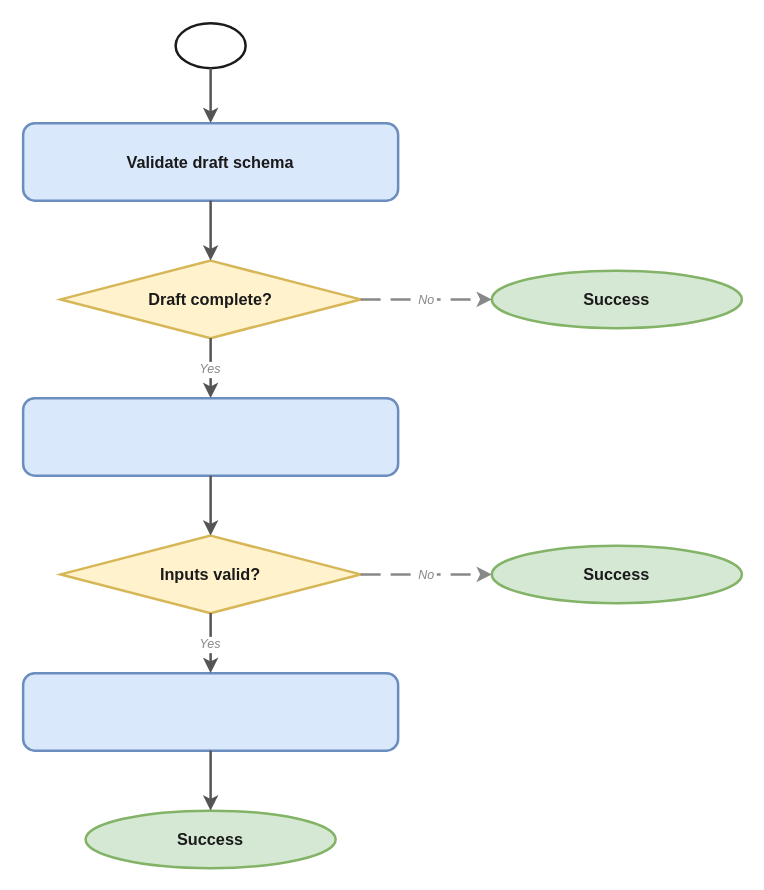
Image size: 764x890. Some labels were removed from this diagram. Here are the shapes that lost their labels. From the top down, the centre of each, then its label:
the point at 210,45: Start
the point at 210,436: Post-schema validation
the point at 210,711: Emit READY event
